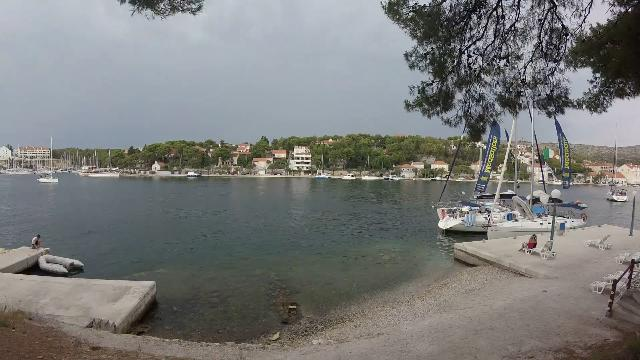Sailboat: (36, 172, 64, 186)
